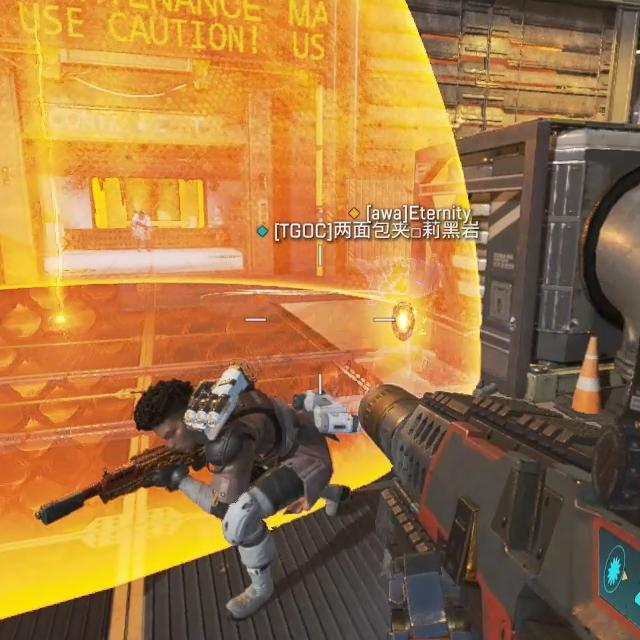avatar: (134, 374, 335, 622)
